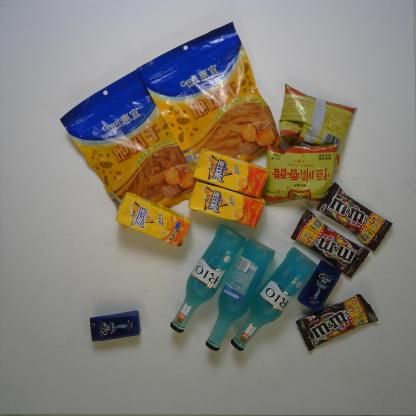Alcohol: (229, 247, 317, 353), (169, 224, 246, 333), (205, 240, 275, 351)
Chocolate: (290, 209, 369, 277), (314, 183, 392, 251), (294, 293, 378, 352)
Dried Fruit: (59, 62, 212, 226), (137, 21, 281, 186)
Drink: (114, 191, 191, 247), (192, 147, 269, 200), (188, 181, 264, 228)
Personal Hygiene: (300, 260, 343, 311), (89, 310, 141, 343)
Seasoner: (278, 84, 358, 166), (262, 143, 339, 206)
